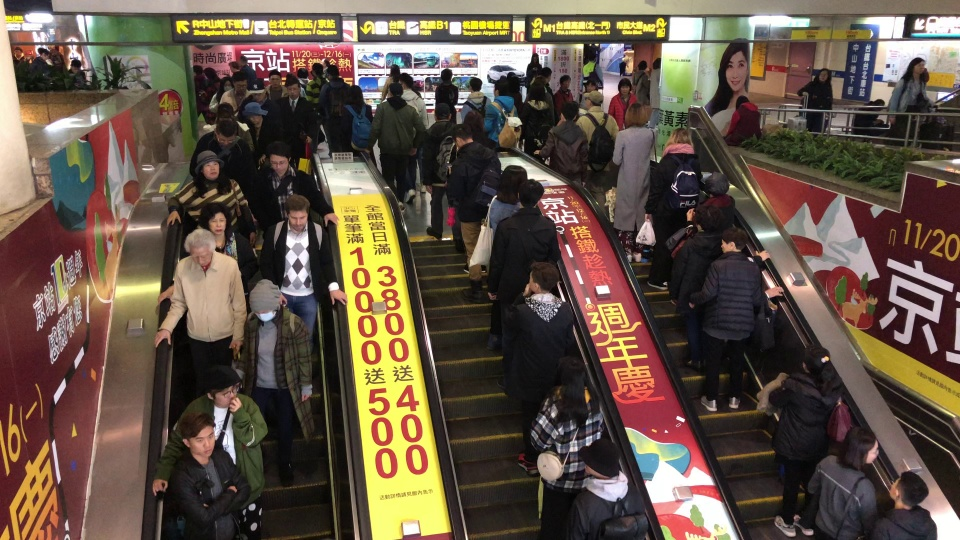person_head: (175, 411, 219, 458), (886, 471, 932, 509), (204, 364, 241, 408), (248, 280, 281, 322), (549, 358, 588, 392), (279, 194, 313, 232), (846, 426, 879, 465), (187, 229, 220, 267), (580, 441, 616, 475), (524, 260, 561, 293), (200, 201, 230, 235), (798, 344, 831, 373), (497, 164, 529, 192), (195, 150, 223, 181), (212, 117, 239, 145), (267, 143, 291, 174), (518, 180, 542, 208), (705, 172, 731, 196), (624, 102, 647, 126), (719, 230, 744, 252), (558, 103, 584, 124), (449, 126, 475, 146), (245, 101, 267, 124), (696, 217, 721, 233), (432, 104, 454, 122), (249, 78, 266, 101), (347, 83, 364, 105), (232, 76, 249, 94), (215, 102, 234, 118), (384, 82, 405, 96), (285, 80, 301, 98), (267, 70, 283, 88), (616, 77, 632, 95), (668, 128, 687, 143), (554, 73, 572, 88), (325, 64, 342, 79), (466, 76, 482, 91), (911, 58, 925, 74), (219, 76, 234, 90), (310, 63, 325, 77), (438, 67, 454, 80), (734, 93, 751, 105), (284, 71, 298, 85), (817, 68, 830, 82), (69, 58, 81, 73), (538, 69, 554, 79), (202, 67, 216, 78), (227, 61, 240, 72), (389, 64, 401, 75), (13, 46, 24, 57), (39, 48, 49, 60), (297, 68, 309, 78), (637, 60, 647, 72), (403, 76, 412, 89), (192, 64, 203, 74), (651, 57, 661, 68), (876, 97, 885, 109), (588, 53, 599, 62), (239, 55, 248, 65), (322, 59, 330, 67)
person_vbox: (148, 361, 273, 512), (237, 279, 326, 485), (501, 262, 583, 473), (687, 230, 763, 413), (481, 181, 559, 354), (156, 229, 247, 373), (769, 343, 836, 538), (163, 150, 252, 295), (527, 358, 598, 537), (267, 194, 346, 353), (471, 162, 544, 304), (644, 129, 701, 290), (173, 410, 243, 539), (802, 426, 879, 539), (157, 202, 240, 305), (261, 144, 341, 250), (571, 439, 648, 540), (371, 81, 425, 213), (608, 105, 652, 263), (447, 125, 490, 278), (423, 103, 469, 237), (188, 117, 259, 201), (574, 90, 631, 185), (538, 100, 598, 178), (871, 471, 939, 538), (679, 217, 717, 332), (887, 58, 937, 145), (400, 76, 431, 203), (276, 80, 328, 154), (336, 82, 377, 166), (207, 102, 254, 154), (798, 68, 834, 131), (698, 172, 736, 227), (723, 93, 761, 147), (606, 77, 639, 132), (245, 101, 270, 166), (851, 97, 888, 138), (433, 67, 458, 124), (209, 76, 242, 113), (305, 63, 326, 117), (525, 69, 559, 102), (554, 73, 584, 110), (378, 63, 403, 104), (580, 53, 605, 90), (281, 70, 309, 101), (325, 64, 351, 97), (632, 60, 651, 104), (191, 64, 205, 118), (262, 70, 286, 100), (36, 49, 55, 77), (651, 58, 660, 110), (239, 54, 257, 78), (227, 61, 246, 78), (297, 67, 311, 82)
